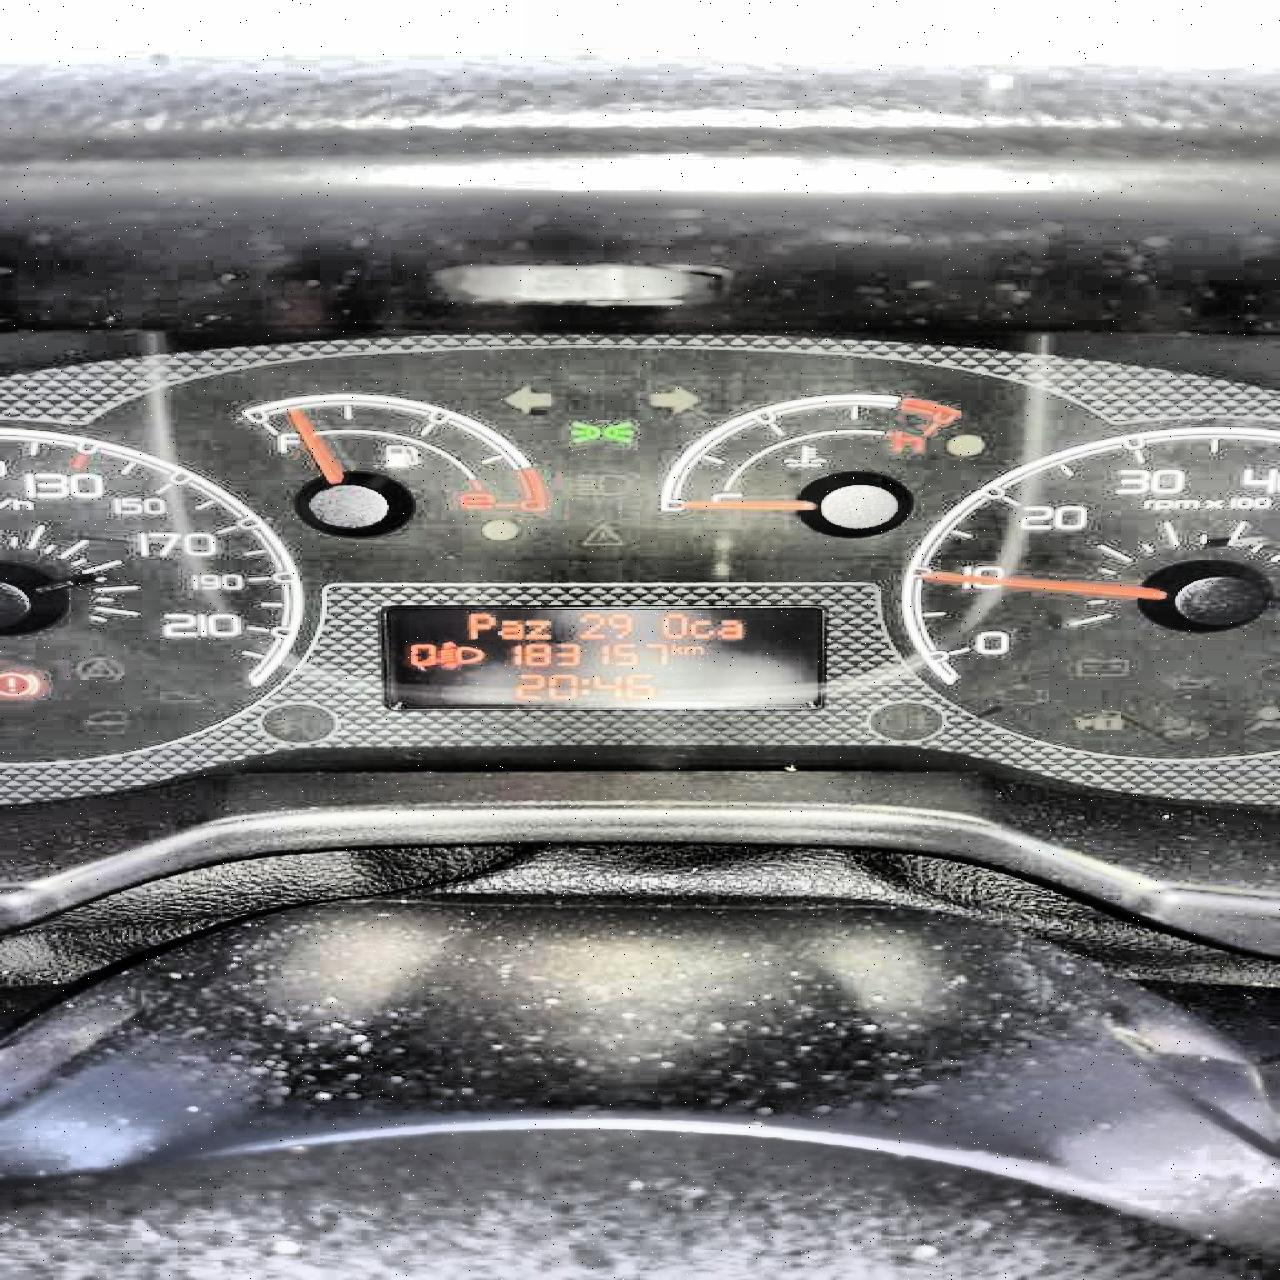0: (545, 674, 576, 699), (409, 642, 434, 663)
1: (598, 644, 610, 663), (511, 645, 520, 665)
2: (513, 674, 543, 699), (576, 613, 605, 638)
3: (553, 642, 578, 666)
4: (591, 675, 620, 697)
5: (611, 642, 635, 666)
6: (625, 674, 654, 699)
7: (645, 642, 667, 663)
8: (523, 642, 549, 666)
9: (607, 613, 632, 638)
X: (467, 613, 493, 639), (660, 613, 685, 638), (716, 619, 742, 638), (687, 619, 712, 638), (523, 620, 549, 638), (498, 620, 523, 638), (680, 645, 702, 654), (578, 678, 588, 694), (669, 642, 680, 654)
odometer: (380, 604, 824, 708)
